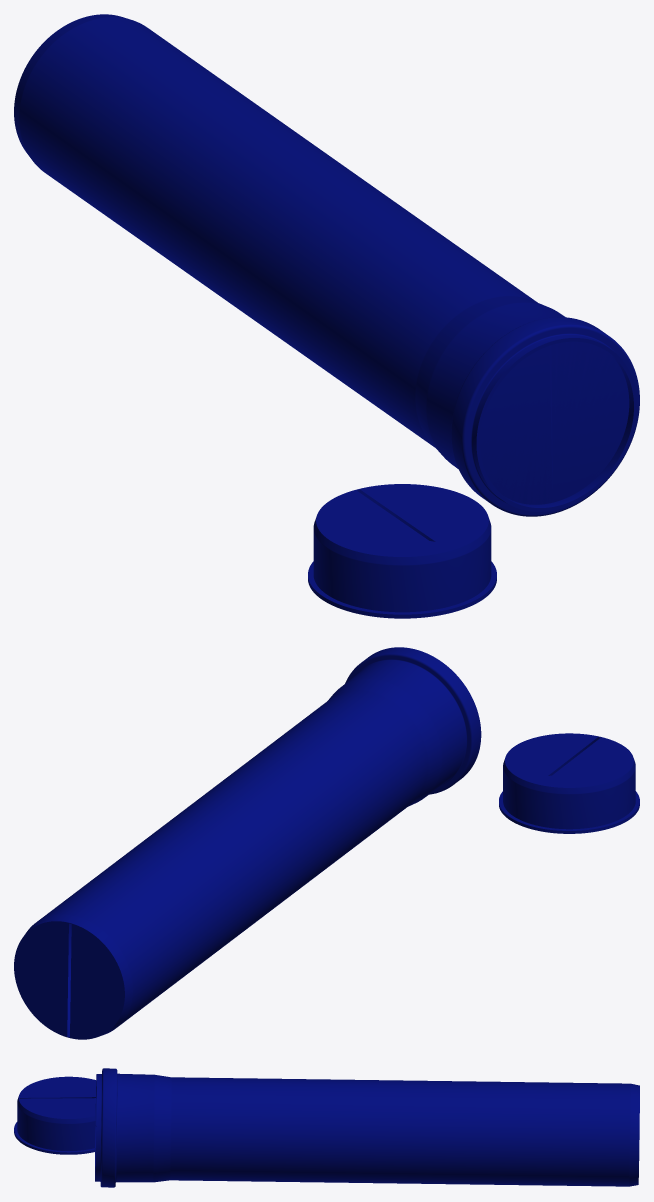
Rendered from PIPE.fbx.
The picture shows the model from 3 angles, top to bottom: view 1: azimuth 30°, elevation 25°; view 2: azimuth 150°, elevation 25°; view 3: azimuth 270°, elevation 25°; orthographic projection. The views are drawn at different scales.
Visible parts, largest first — view 1: TEAVA.001, CAPAC; view 2: TEAVA.001, CAPAC; view 3: TEAVA.001, CAPAC.
Part boxes in pixels (left/top/right/bottom): TEAVA.001: left=14, top=14, right=639, bottom=516; CAPAC: left=308, top=484, right=496, bottom=618; TEAVA.001: left=14, top=647, right=481, bottom=1039; CAPAC: left=499, top=733, right=639, bottom=833; TEAVA.001: left=95, top=1068, right=639, bottom=1187; CAPAC: left=14, top=1076, right=96, bottom=1154.
Bounding box in the file's own units: 24.9 × 12.72 × 66.8.
